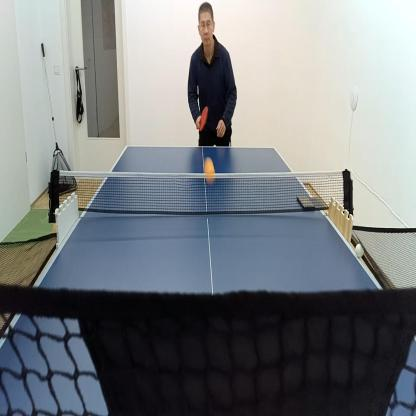Ball: (203, 156, 216, 186), (355, 241, 364, 260)
